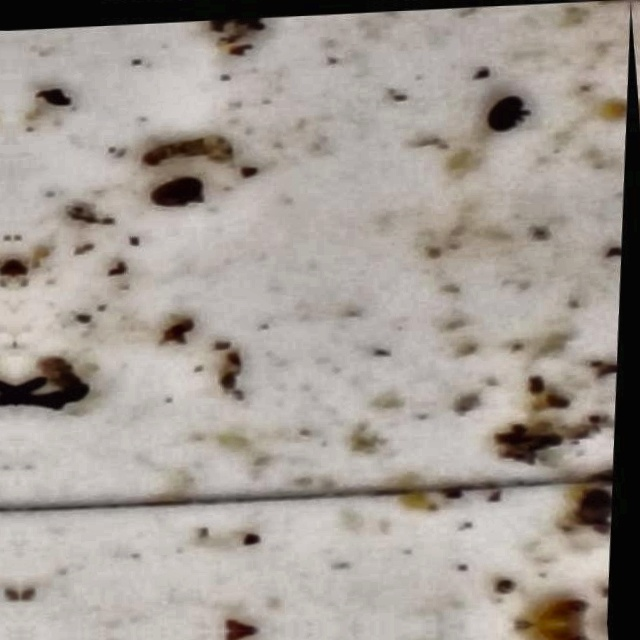varroa: (148, 174, 207, 210), (580, 485, 618, 529), (486, 94, 525, 134)
